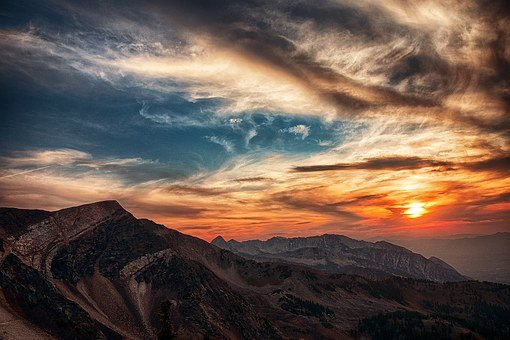mountain: (6, 207, 508, 336)
sky: (6, 6, 510, 223)
